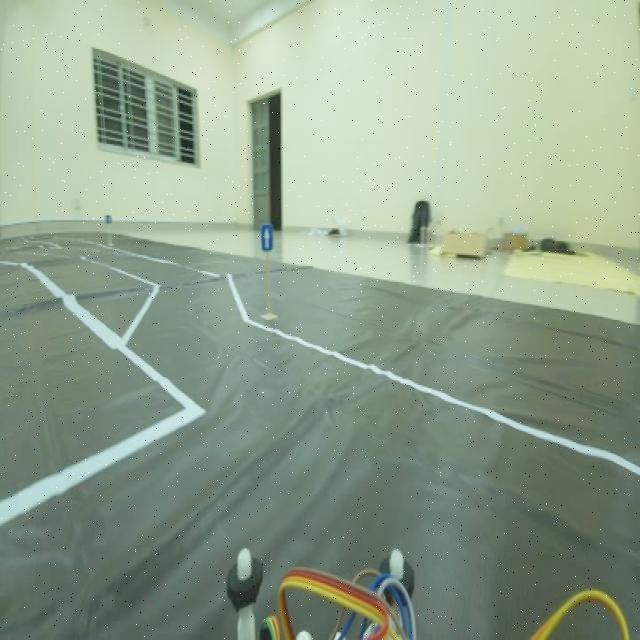onewayroad: (256, 220, 278, 258)
